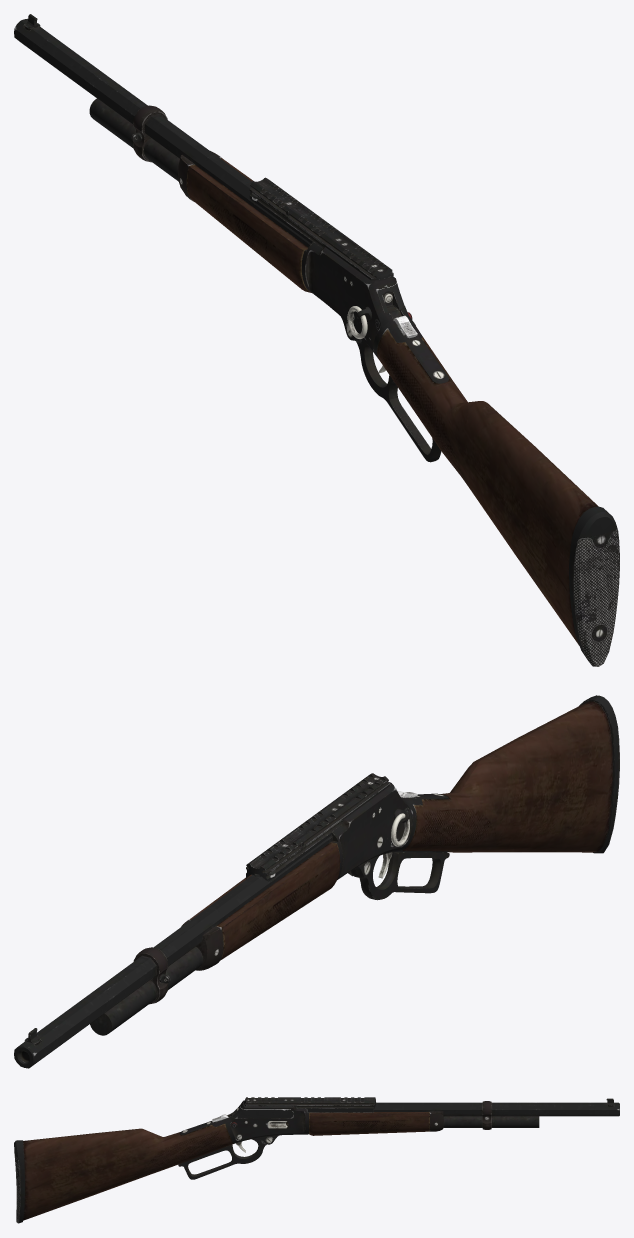
The model's file is leveraction.glb.
3 renders of one model, top to bottom at view 1: azimuth 30°, elevation 25°; view 2: azimuth 150°, elevation 25°; view 3: azimuth 270°, elevation 25°, orthographic. The views are drawn at different scales.
Parts seen in each view (by area): view 1: ANCHOR, FRAME, LEVER; view 2: ANCHOR, FRAME, LEVER; view 3: ANCHOR, FRAME, LEVER, BOLT.
Boxes of the visible parts, x1=… form: ANCHOR: x1=14, y1=14, x2=619, y2=666; FRAME: x1=249, y1=177, x2=393, y2=280; LEVER: x1=356, y1=338, x2=441, y2=462; ANCHOR: x1=14, y1=695, x2=619, y2=1068; FRAME: x1=246, y1=773, x2=390, y2=881; LEVER: x1=350, y1=852, x2=449, y2=900; ANCHOR: x1=14, y1=1098, x2=619, y2=1223; FRAME: x1=244, y1=1097, x2=375, y2=1112; LEVER: x1=178, y1=1138, x2=266, y2=1179; BOLT: x1=232, y1=1104, x2=293, y2=1118.
Bounding box in the file's own units: 0.0513 × 0.2379 × 1.05.
Materials: 2 (1 with a texture image).
